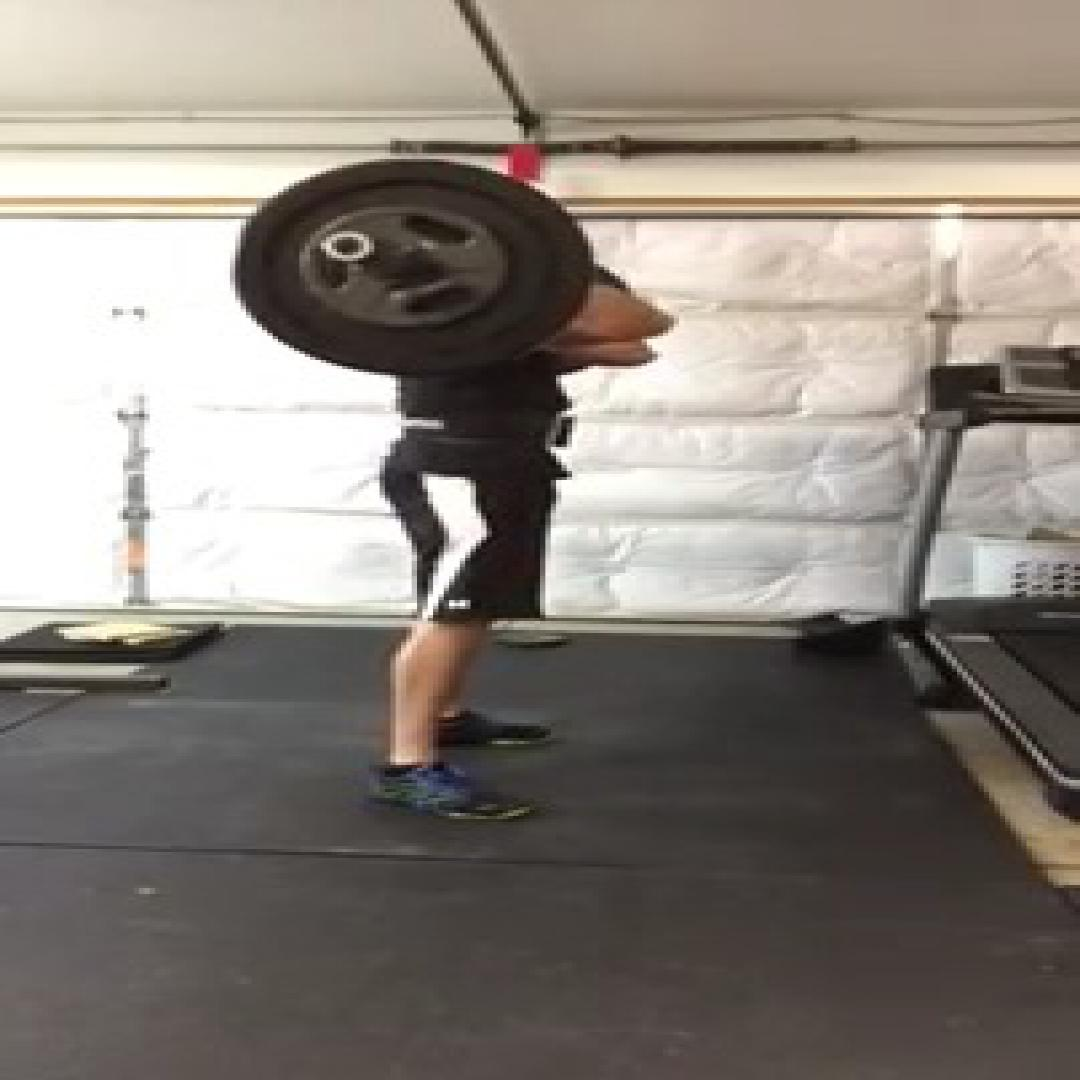Bar: (316, 228, 379, 264)
Barbell: (230, 159, 593, 375)
